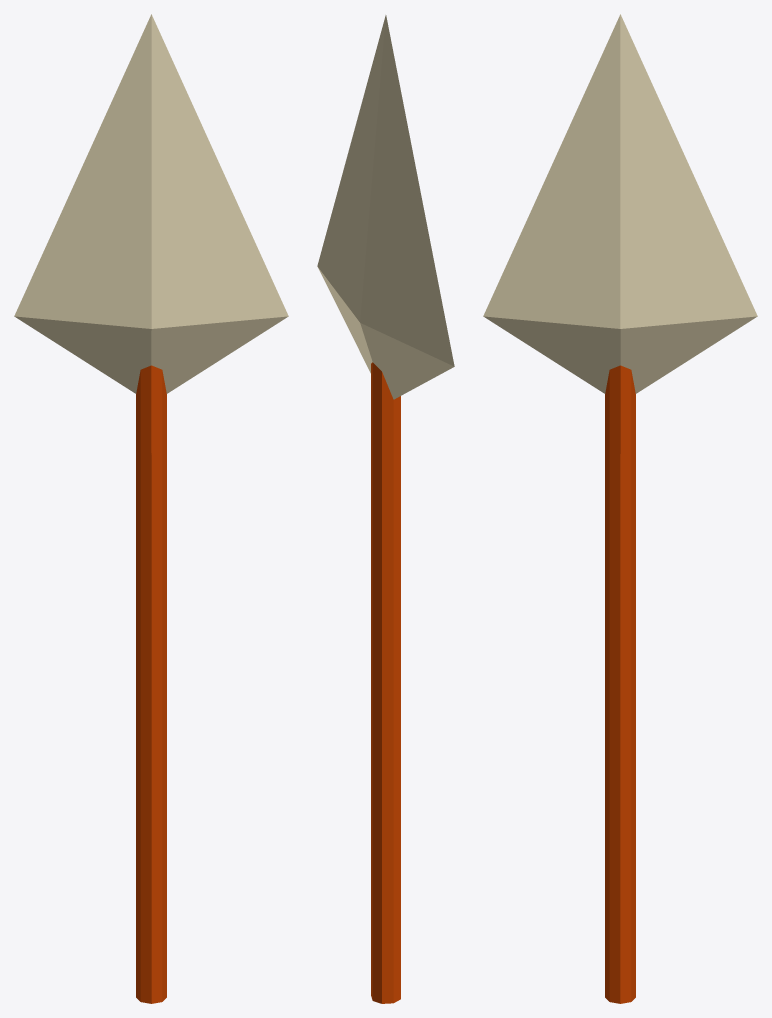
The model's file is spear.fbx.
3 views of the same model, side by side, from view 1: azimuth 90°, elevation 25°; view 2: azimuth 210°, elevation 25°; view 3: azimuth 270°, elevation 25° (orthographic).
Visible parts, largest first — view 1: Plane; view 2: Plane; view 3: Plane.
Boxes of the visible parts, x1=… form: Plane: x1=14, y1=14, x2=288, y2=1003; Plane: x1=317, y1=15, x2=454, y2=1003; Plane: x1=483, y1=14, x2=757, y2=1003.
Bounding box in the file's own units: 14.41 × 66.33 × 262.
